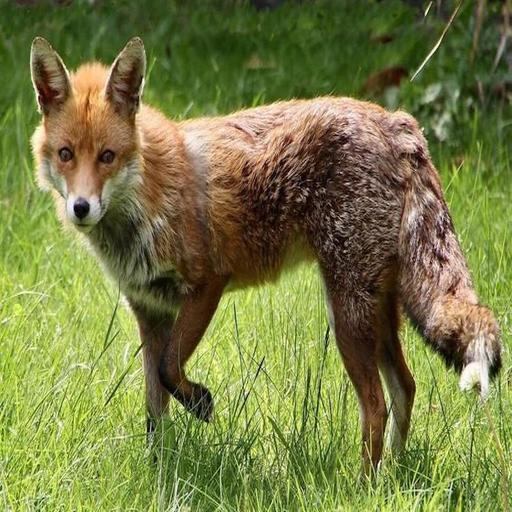Fox: (23, 0, 512, 499)
